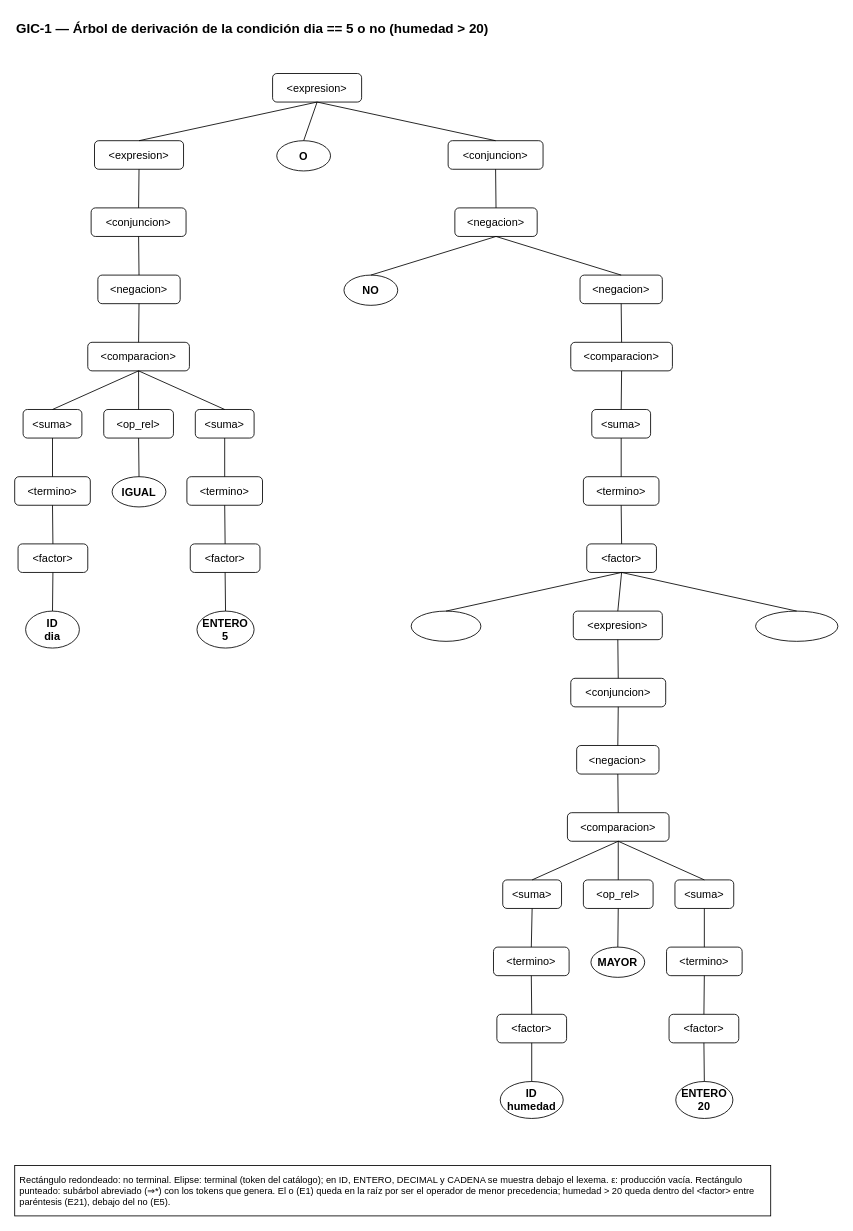
Some shapes in this 853 by 1231 pixel diagram are drawn without their labels. Each missing label, with the centre of its shape:
PAR_ABRE: pixel 445 625
PAR_CIERRA: pixel 796 625
